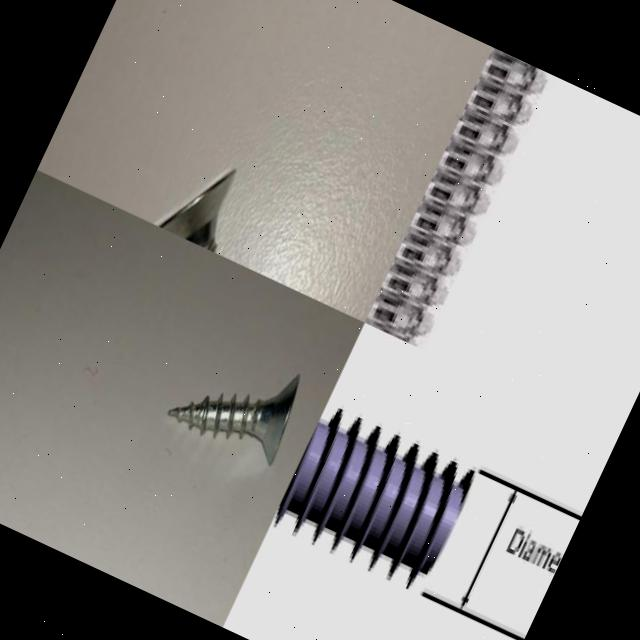Screw: (365, 48, 552, 347), (271, 405, 478, 594), (169, 374, 300, 464), (153, 169, 236, 253)
